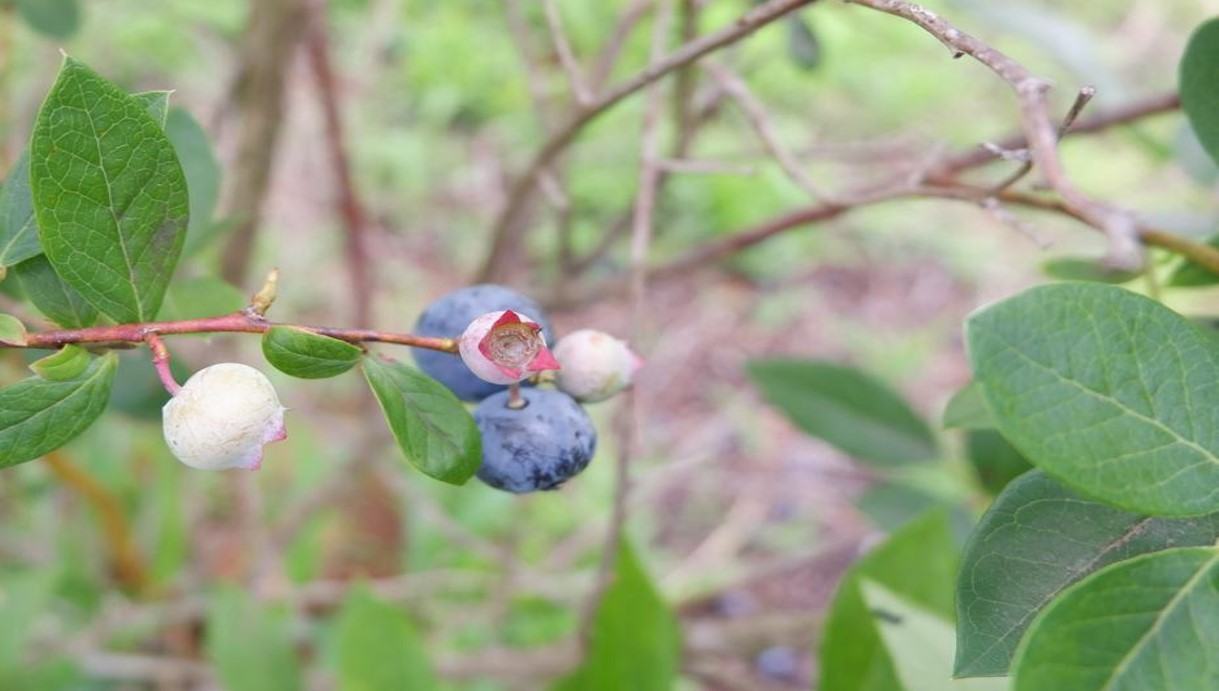Immature: (162, 363, 287, 470), (461, 310, 559, 383), (550, 329, 646, 403)
Mature: (410, 283, 554, 403), (470, 387, 598, 495)
